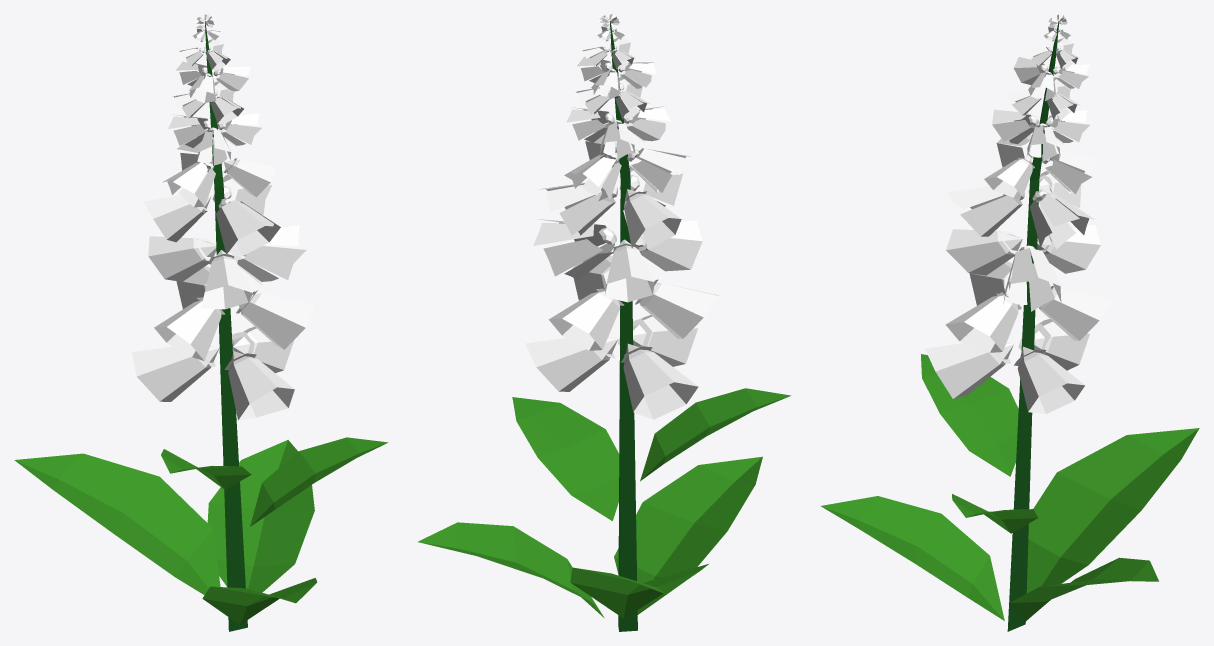
Rendered from fleur 10.fbx.
3 views of the same model, side by side, from view 1: azimuth 30°, elevation 25°; view 2: azimuth 150°, elevation 25°; view 3: azimuth 270°, elevation 25° (orthographic). The views are drawn at different scales.
Visible parts, largest first — view 1: Flower.025; view 2: Flower.025; view 3: Flower.025.
Part boxes in pixels (x1,y1,x2,y2): Flower.025: (14,14,388,631); Flower.025: (418,14,790,631); Flower.025: (821,14,1199,631).
Bounding box in the file's own units: 0.2116 × 0.4647 × 0.2631.
